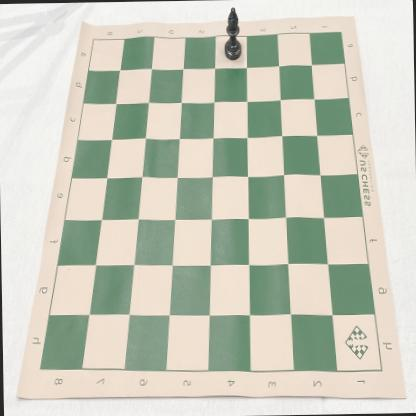black-bishop: (223, 6, 242, 61)
